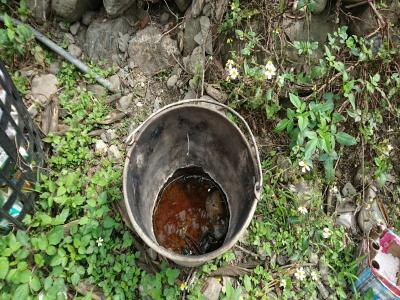bucket: (118, 102, 266, 271)
